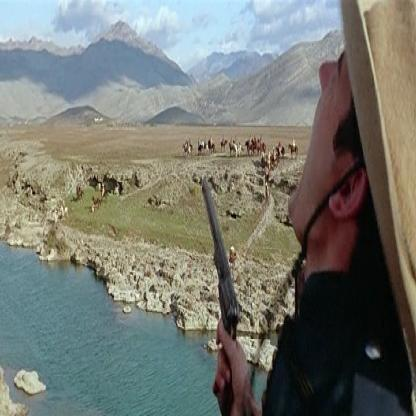gun: (196, 138, 244, 405)
